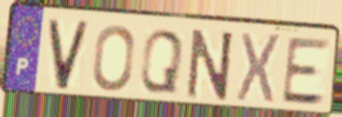E: (279, 36, 333, 107)
N: (184, 27, 236, 102)
O: (91, 23, 137, 93)
Q: (137, 27, 186, 95)
V: (46, 17, 92, 93)
X: (233, 30, 283, 108)
